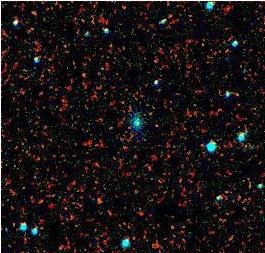star: (83, 169, 113, 199)
